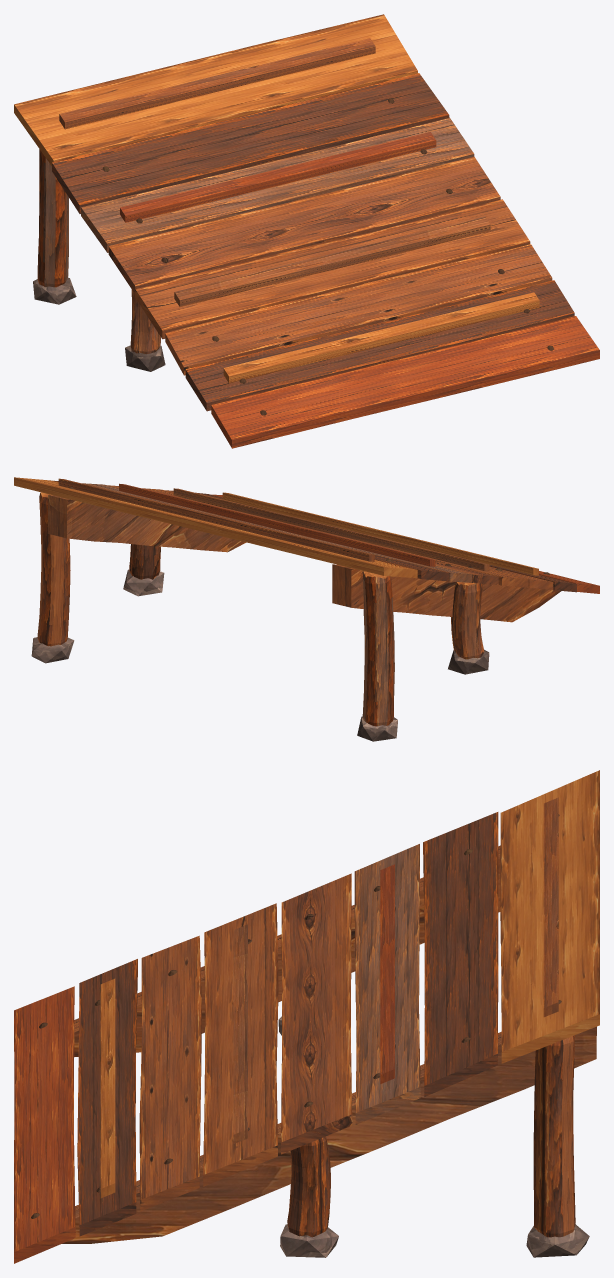
Rendered from ramp__plank_root.glb.
3 views of the same model, one above another, from view 1: azimuth 30°, elevation 25°; view 2: azimuth 150°, elevation 25°; view 3: azimuth 270°, elevation 25° (orthographic). The views are drawn at different scales.
Parts seen in each view (by area): view 1: model; view 2: model; view 3: model.
Boxes of the visible parts, left/top/right/bottom form: model: left=14, top=14, right=599, bottom=448; model: left=14, top=477, right=599, bottom=741; model: left=14, top=770, right=599, bottom=1263.
Bounding box in the file's own units: 1.95 × 0.9433 × 1.98.
Materials: 20 (20 with a texture image).
